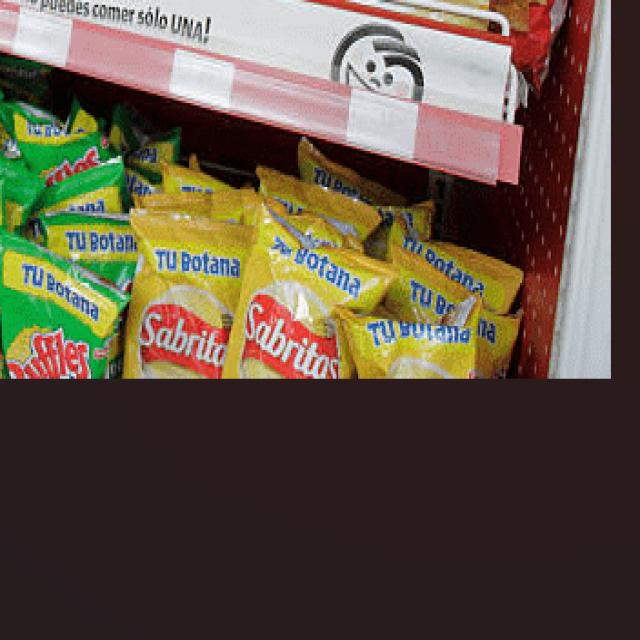rufflesQueso: (2, 257, 115, 403)
sabritasOriginal: (235, 240, 353, 384), (128, 249, 230, 390)
